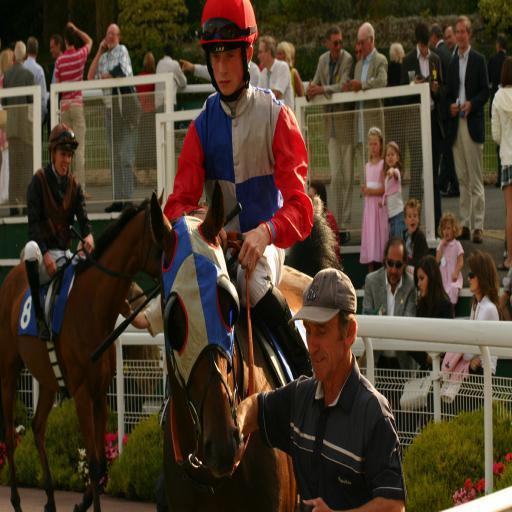horse: (149, 191, 343, 512), (0, 188, 172, 512)
